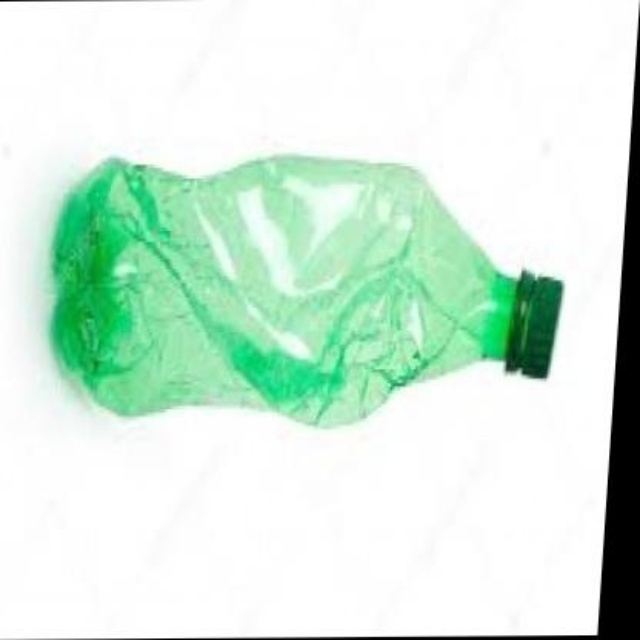trash: (52, 155, 560, 425)
